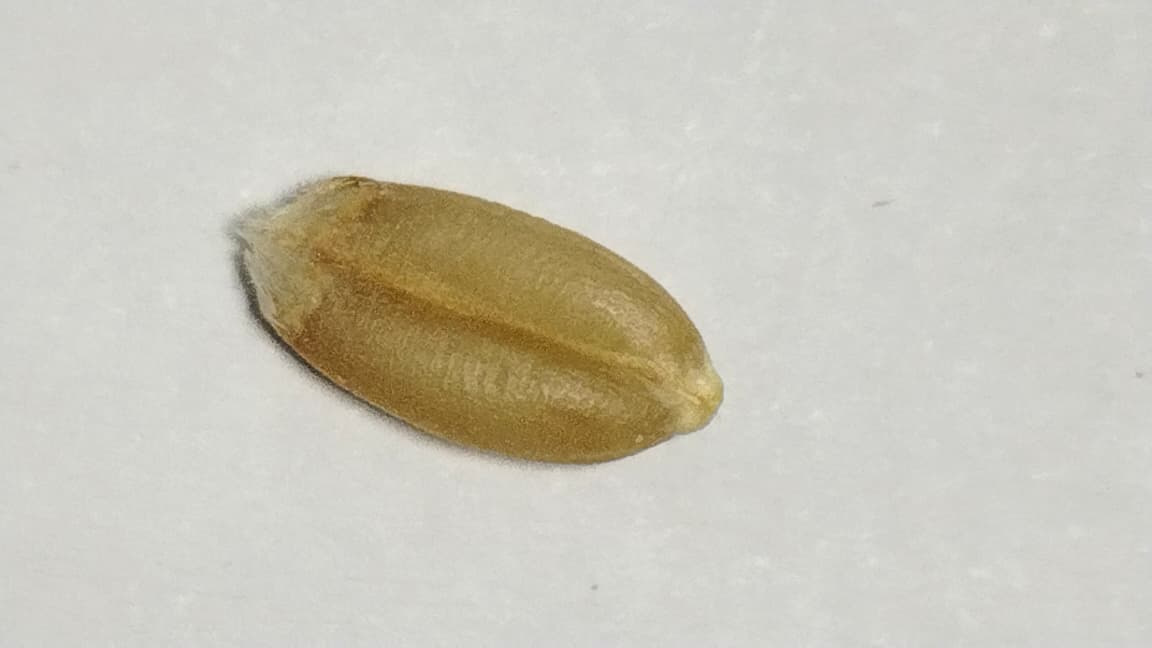healthy: (241, 177, 721, 461)
